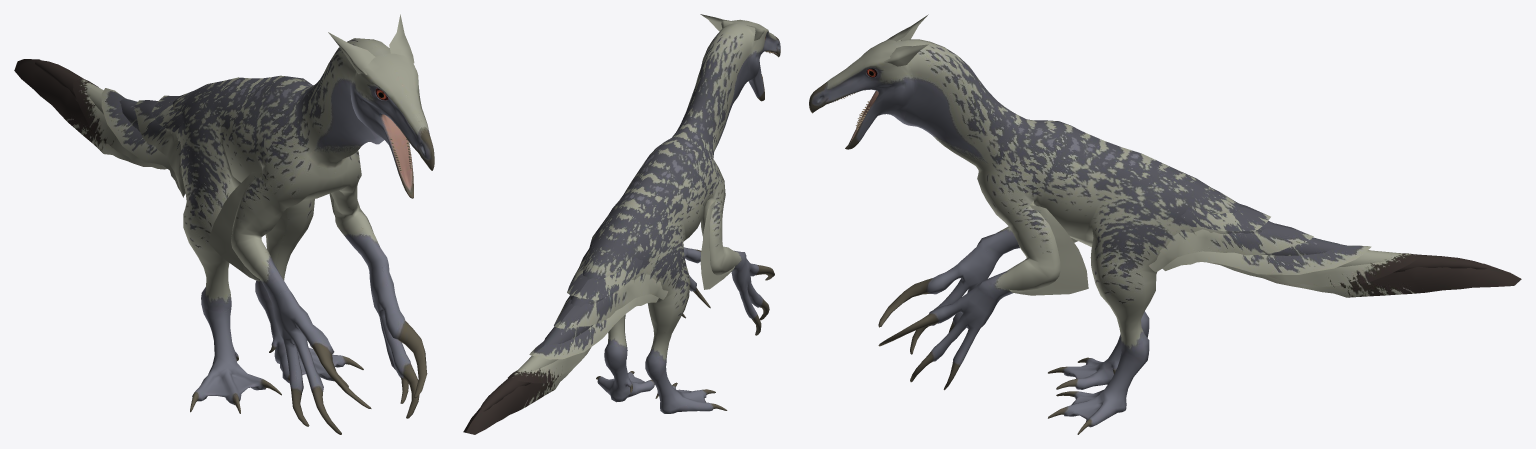
Rendered from Beipiaosaurio.glb.
3 renders of one model, left to right at view 1: azimuth 30°, elevation 25°; view 2: azimuth 150°, elevation 25°; view 3: azimuth 270°, elevation 25°, orthographic. The views are drawn at different scales.
Parts seen in each view (by area): view 1: DW_Beipiaosaurio_Adulto_Mayor_mesh; view 2: DW_Beipiaosaurio_Adulto_Mayor_mesh; view 3: DW_Beipiaosaurio_Adulto_Mayor_mesh.
Boxes of the visible parts, x1,y1,x2,y2 form: DW_Beipiaosaurio_Adulto_Mayor_mesh: (14, 14, 434, 434); DW_Beipiaosaurio_Adulto_Mayor_mesh: (463, 14, 780, 434); DW_Beipiaosaurio_Adulto_Mayor_mesh: (809, 14, 1521, 434).
Size of the model in its own units: 0.241 by 0.5722 by 1.
Materials: 3 (3 with a texture image).
